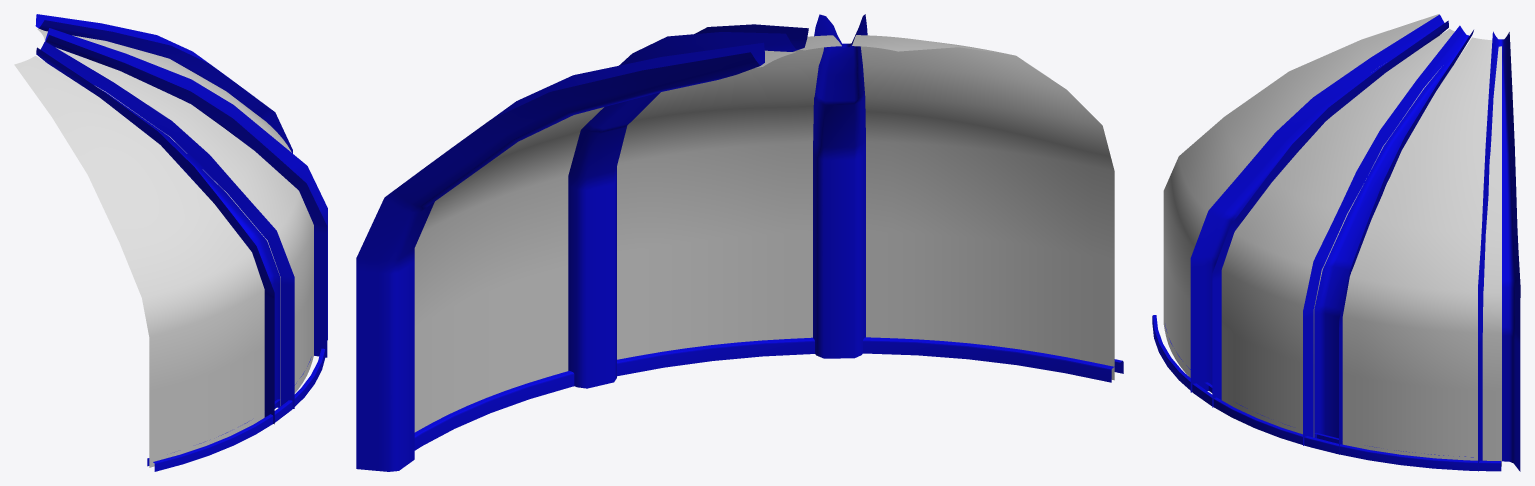
File: CurvedWallCommand.fbx
The picture shows the model from 3 angles, left to right: view 1: azimuth 30°, elevation 25°; view 2: azimuth 150°, elevation 25°; view 3: azimuth 270°, elevation 25°; orthographic projection. The views are drawn at different scales.
Visible parts, largest first — view 1: polySurface9, TrimUpper, Trim; view 2: polySurface9, TrimUpper, Trim; view 3: polySurface9, TrimUpper, Trim.
Part boxes in pixels (<box>): polySurface9: <box>14,29,313,467</box>; TrimUpper: <box>35,14,327,424</box>; Trim: <box>147,348,325,471</box>; polySurface9: <box>414,35,1114,432</box>; TrimUpper: <box>356,14,867,471</box>; Trim: <box>414,337,1123,450</box>; polySurface9: <box>1163,14,1501,466</box>; TrimUpper: <box>1190,14,1520,471</box>; Trim: <box>1152,315,1501,471</box>.
Size of the model in its own units: 24.63 by 24.87 by 25.85.
